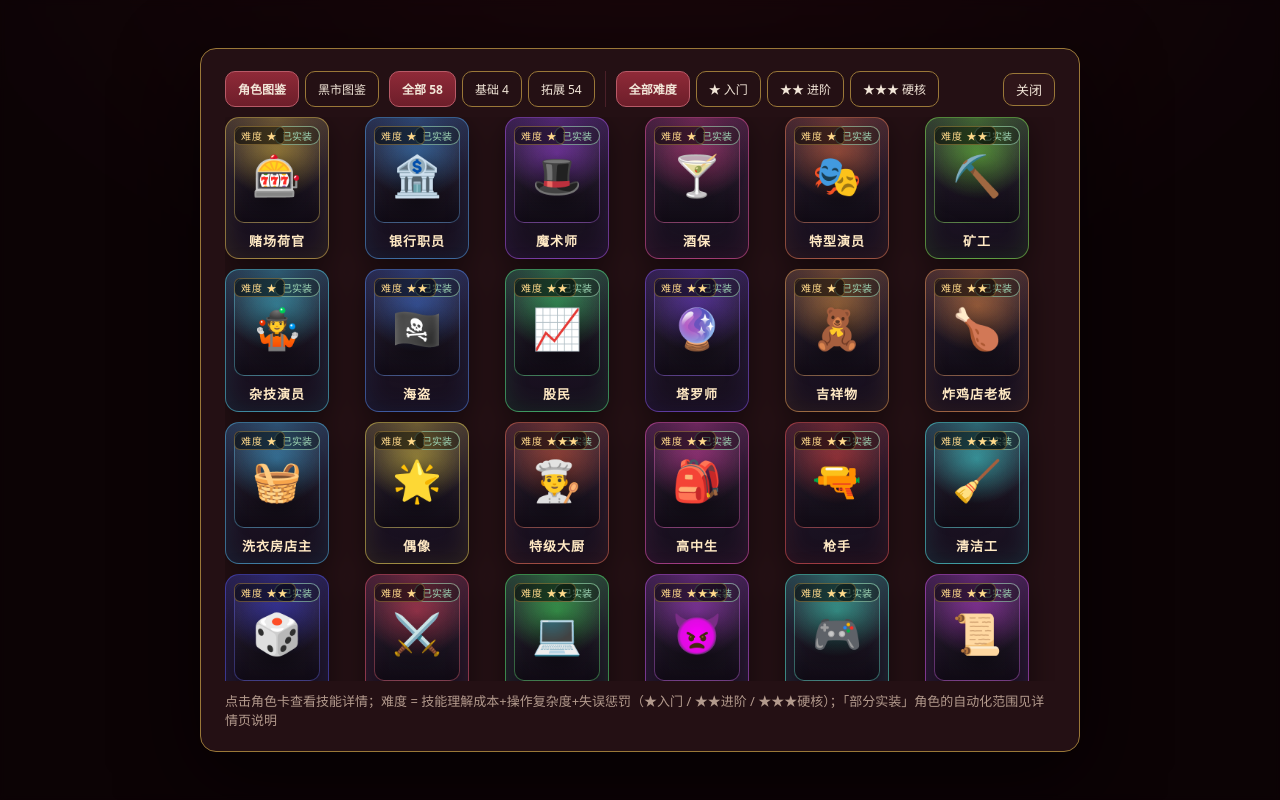
CodexModal · 图鉴弹层 › 难度筛选：入门只显示 difficulty===1 的角色
The image size is (1280, 800).
Click the button "★ 入门" at {"x": 728, "y": 89}, box [696, 71, 761, 107]
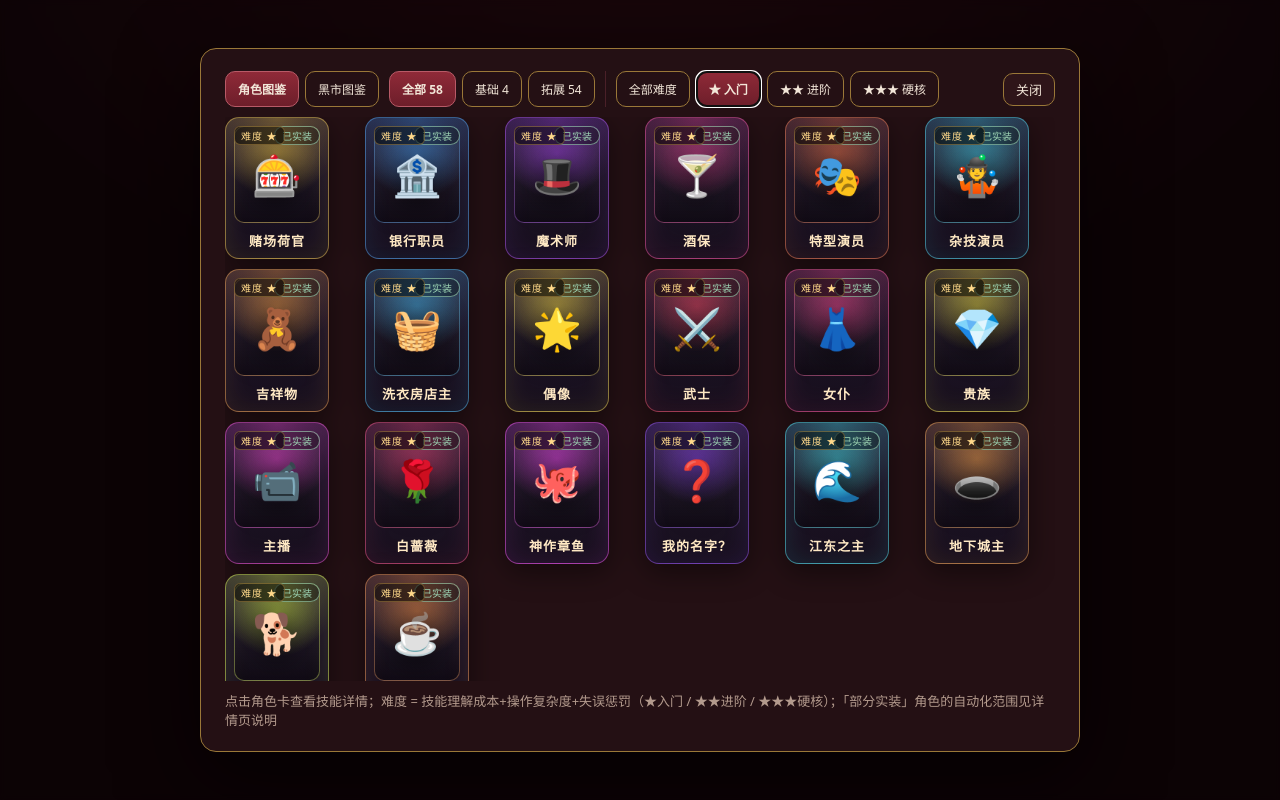
Now the number of elements with class "char-card" is 20
